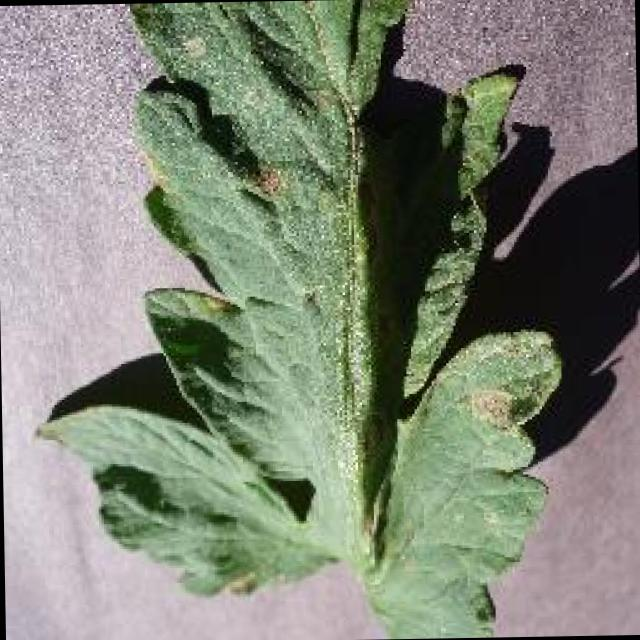Tomato_Early_Blight: (257, 77, 531, 562)
